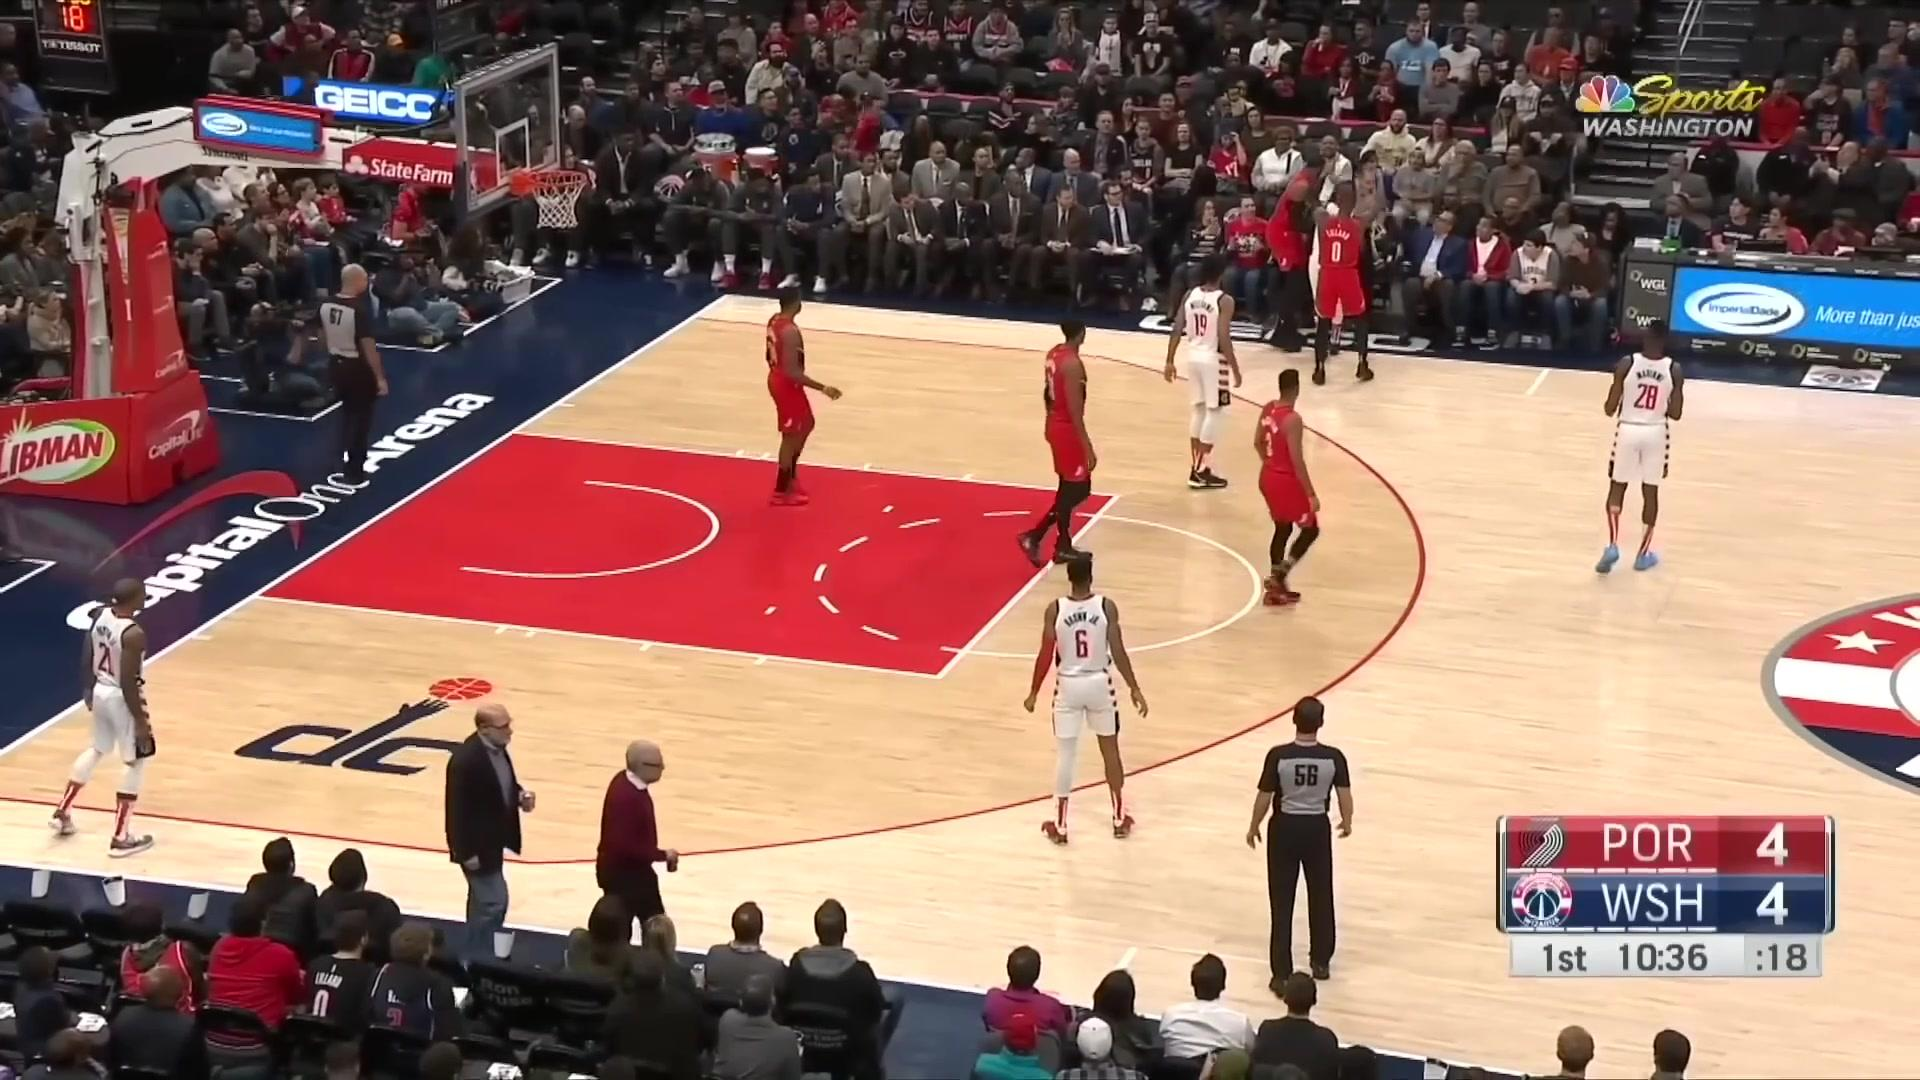foul: (1244, 156, 1393, 381)
